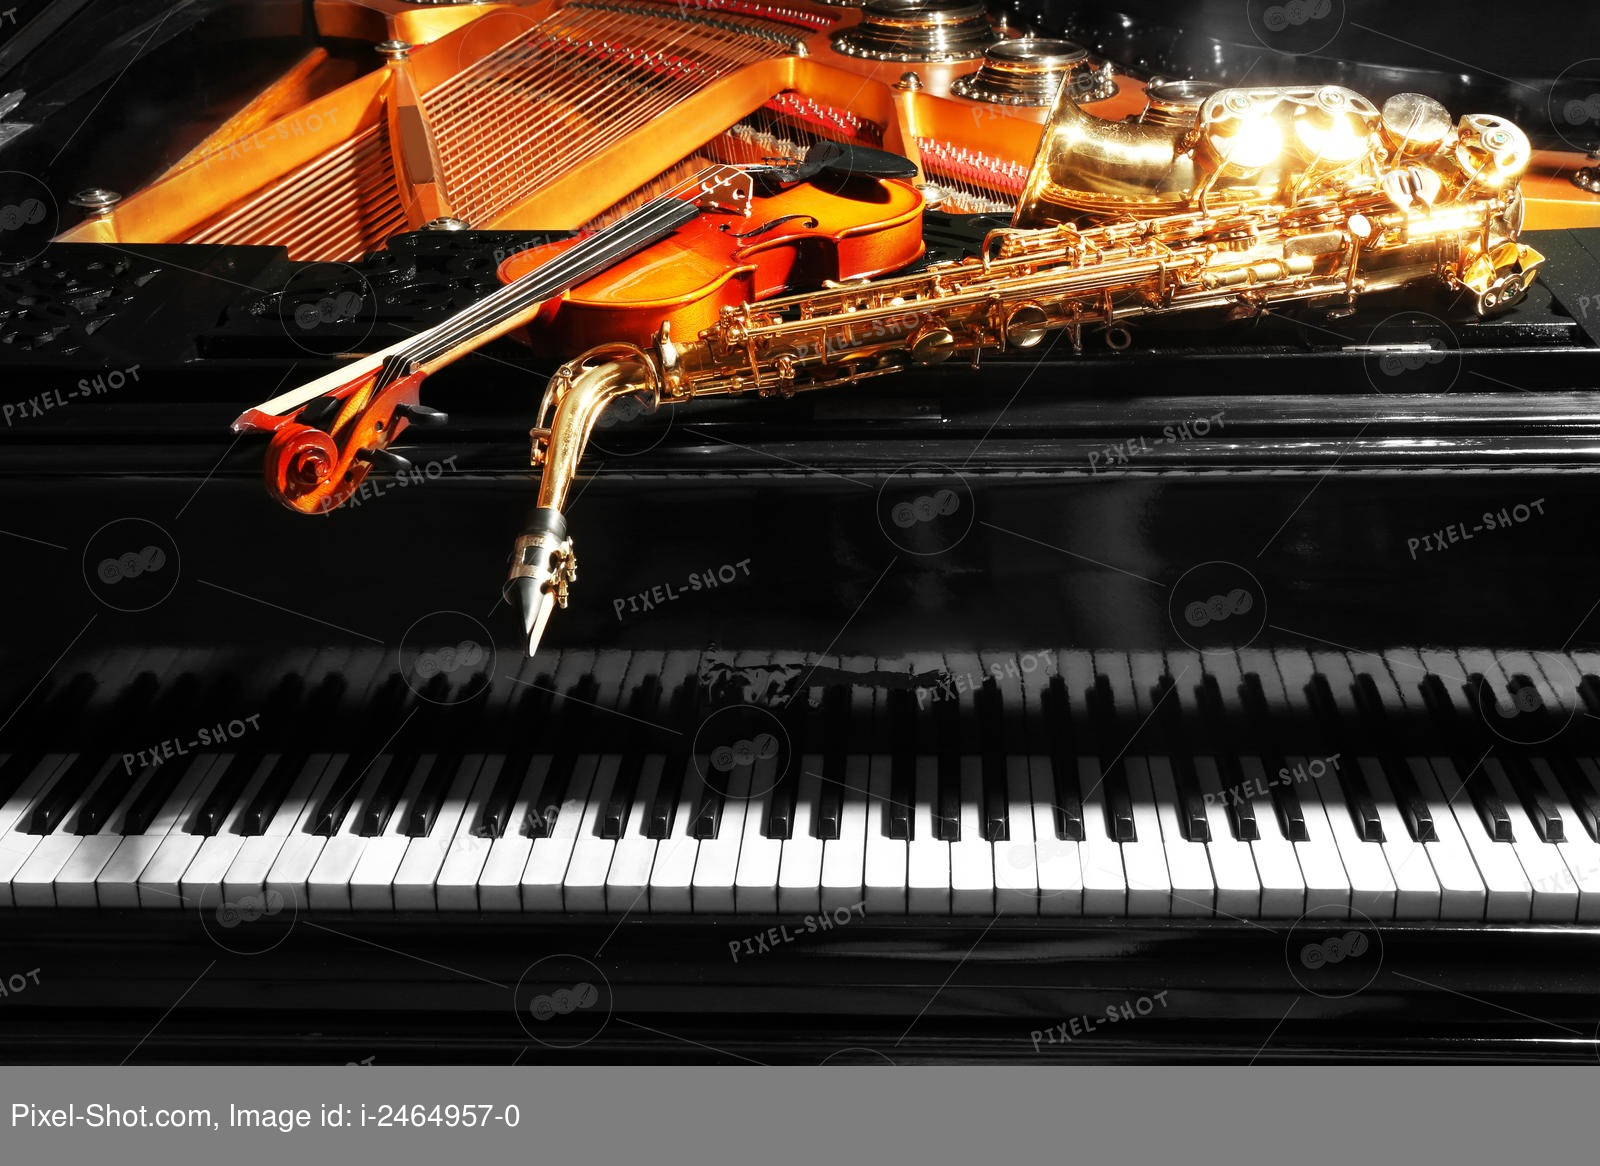Piano: (1, 255, 1600, 1150)
Saxophone: (443, 189, 1600, 703)
Violin: (194, 155, 998, 584)
